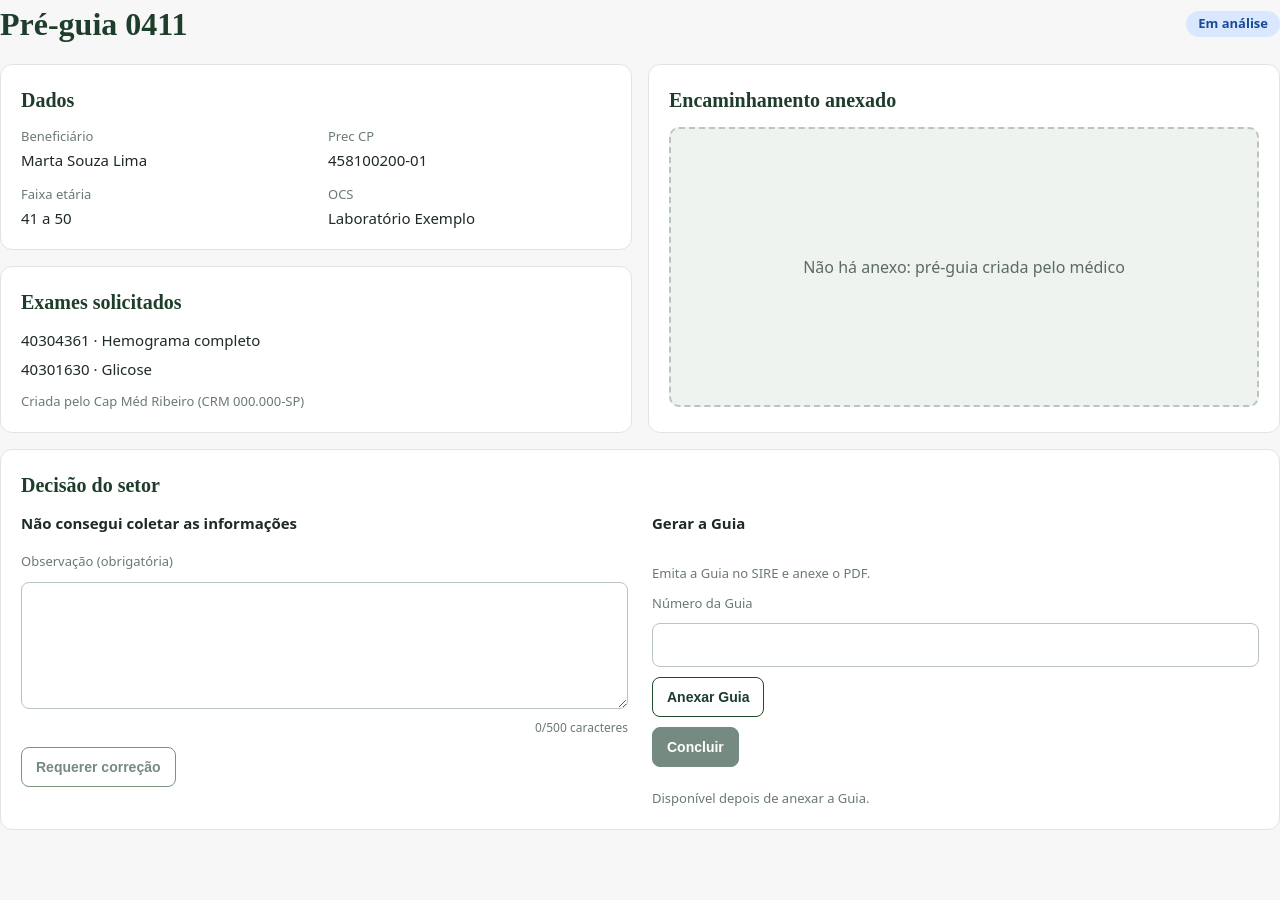
T4-FE · Tela Pré-guia {número} › Requerer correção fica desabilitado sem observação e abre a confirmação
The image size is (1280, 900).
Check: the button "Requerer correção" is disabled, box [21,746,176,786]
Type "Falta o documento" into the text box labelled "Observação (obrigatória)" at (324, 645), box [21,582,628,708]
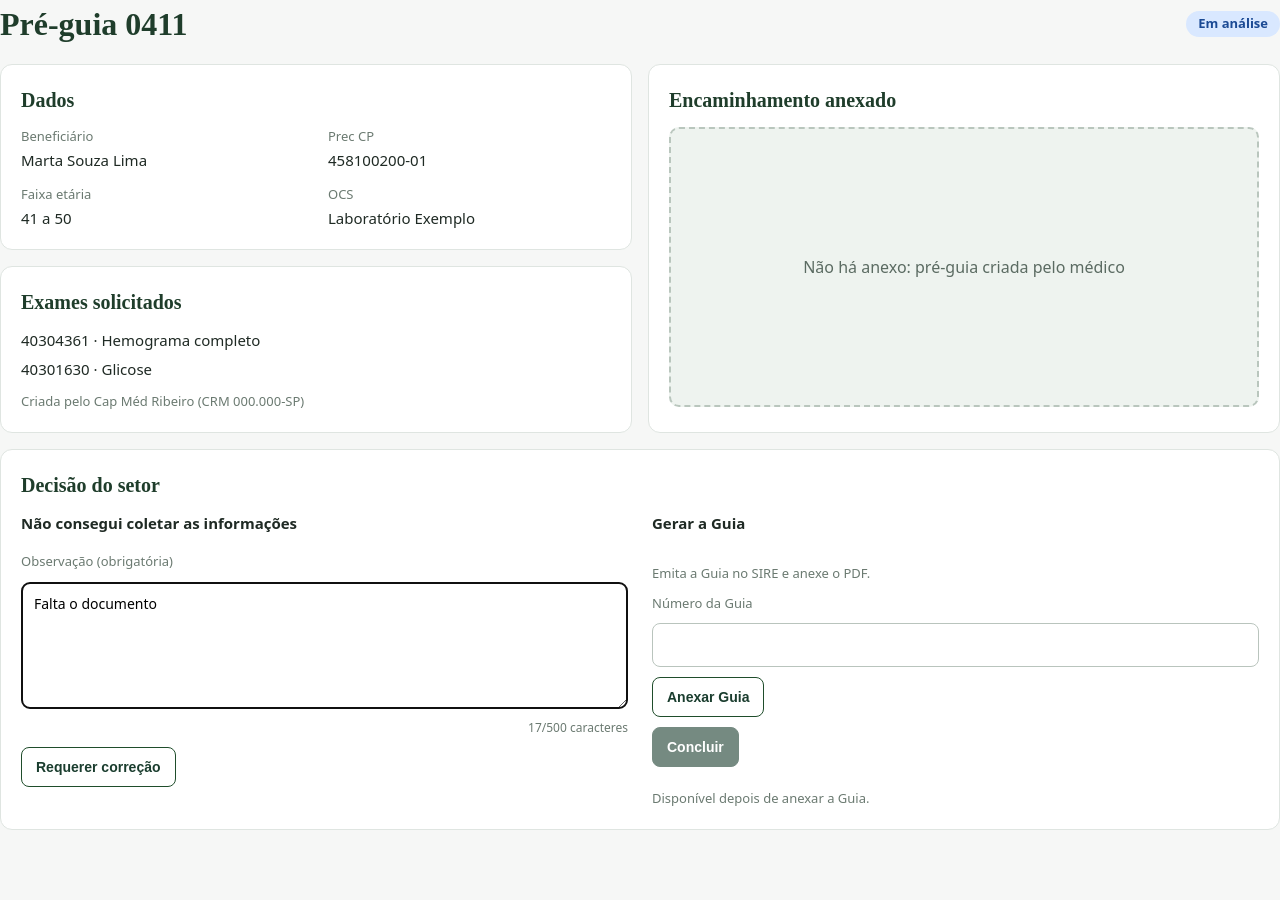
Check: the button "Requerer correção" is enabled
Click the button "Requerer correção" at (98, 766), box [21,746,176,786]
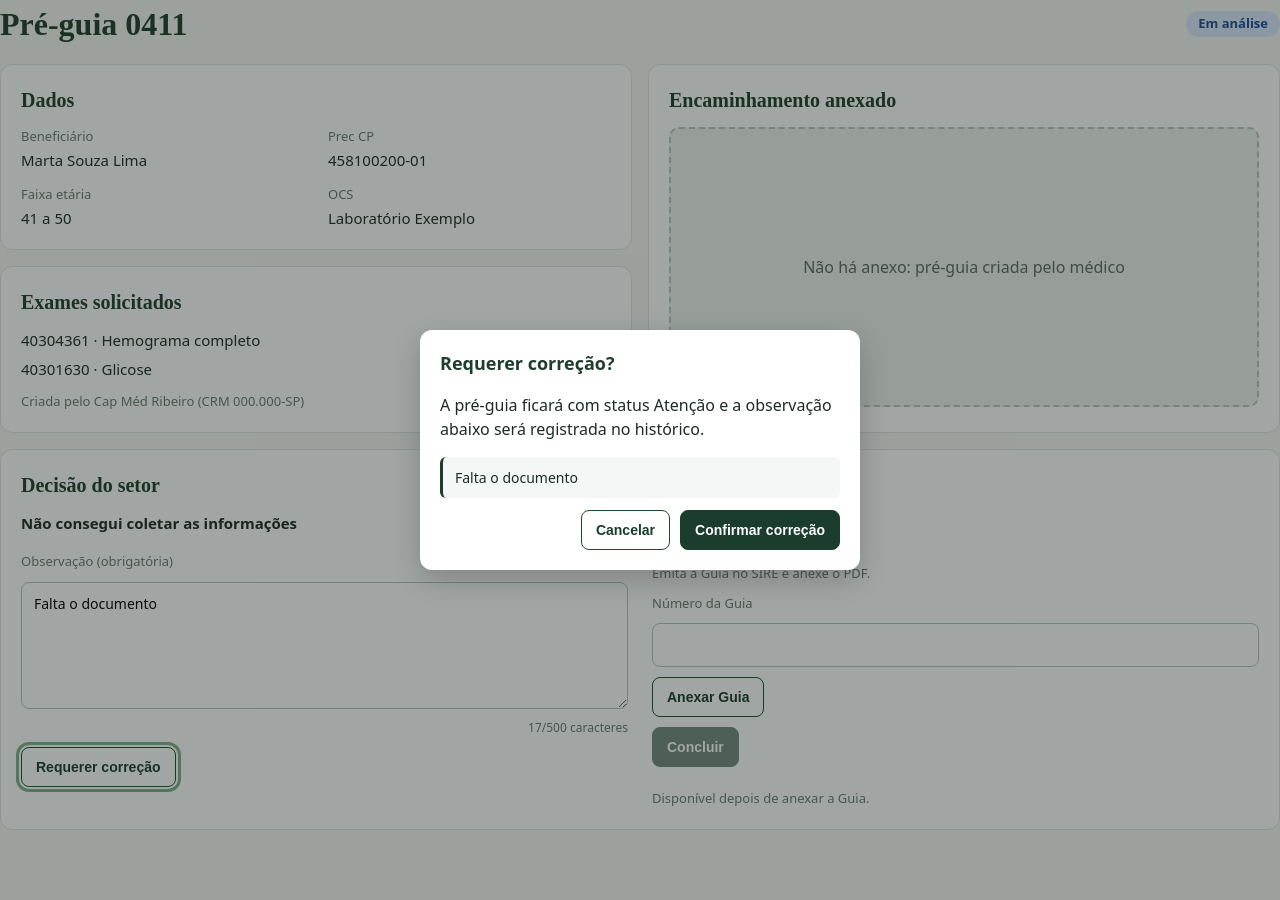
Check: the dialog is shown, box [420,330,860,570]
